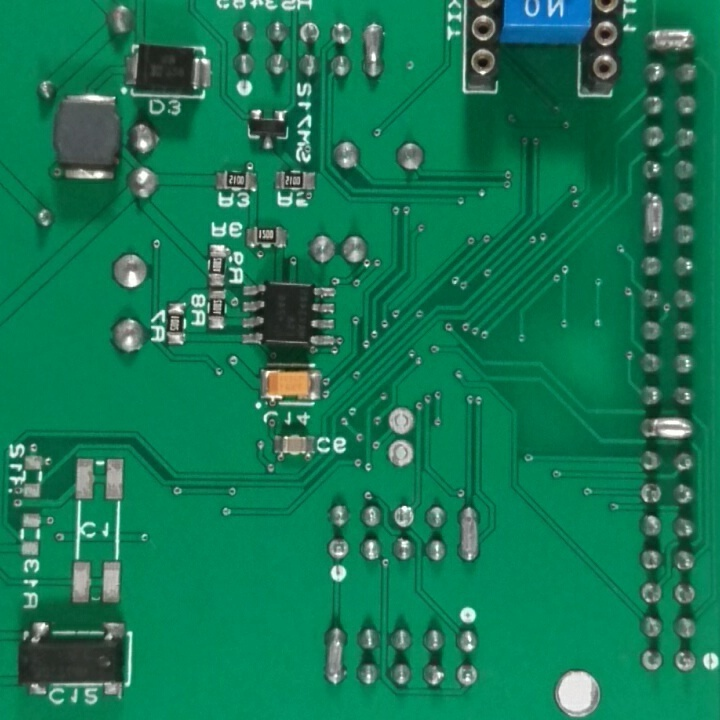F: (385, 403, 417, 440), (384, 436, 415, 472), (391, 503, 419, 534), (453, 659, 480, 690), (324, 534, 352, 562), (639, 480, 665, 509), (299, 18, 322, 49), (673, 649, 699, 675), (674, 583, 699, 607)
P: (320, 619, 353, 690), (643, 25, 697, 58), (638, 189, 667, 249), (359, 18, 384, 86), (455, 503, 481, 568), (638, 415, 696, 443)
